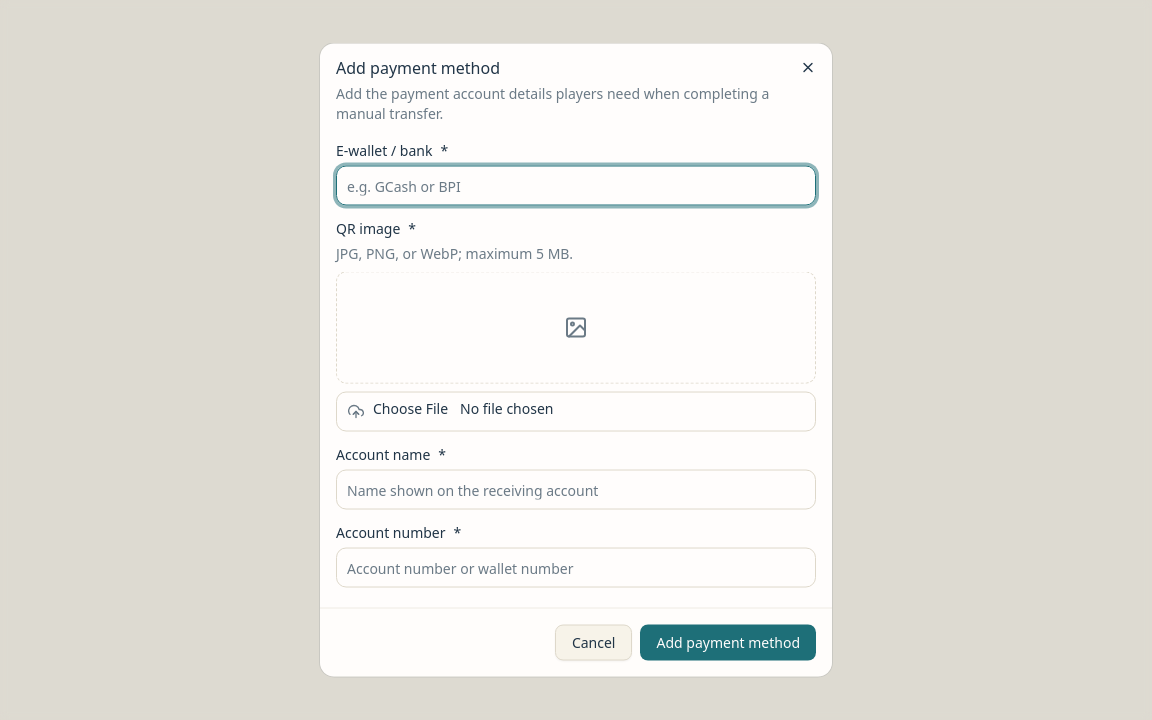
it: payment account input › keeps letters and punctuation out when typing or pasting in the create form
Step 1. Type "00ab12e3.4" into the field labelled "Account number" → (576, 568), box [336,548,816,588]
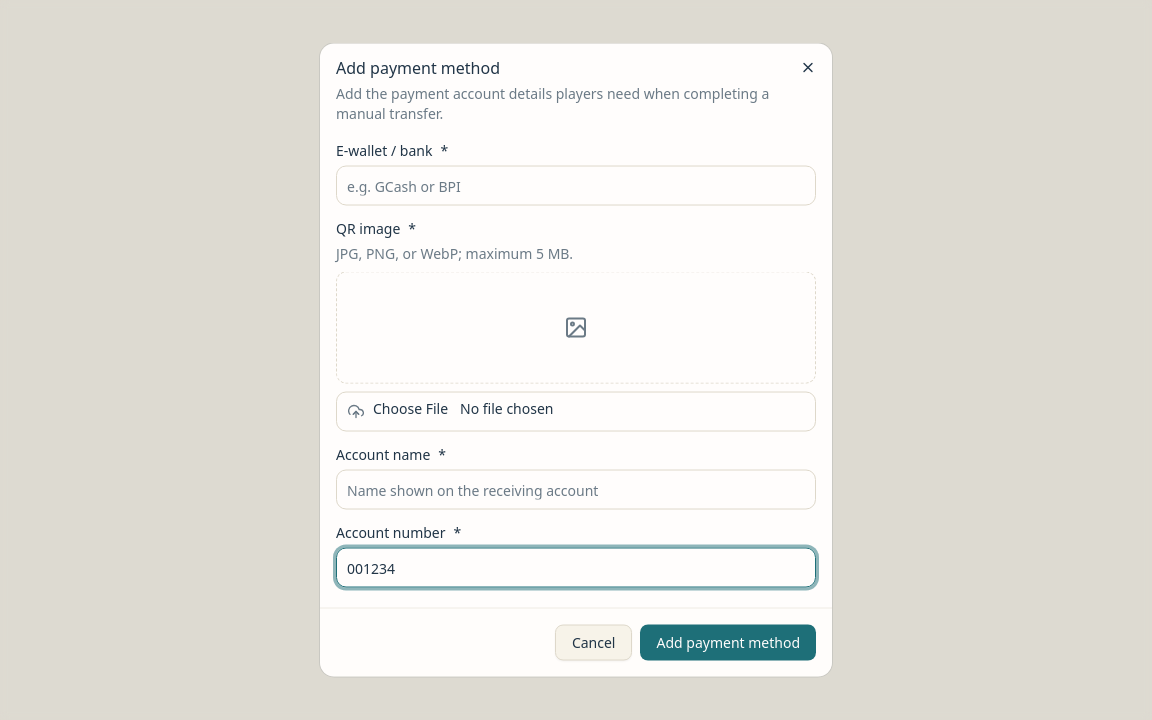
Check: the field labelled "Account number" holds "001234"
Step 2. Clear the field labelled "Account number" → (576, 568), box [336,548,816,588]
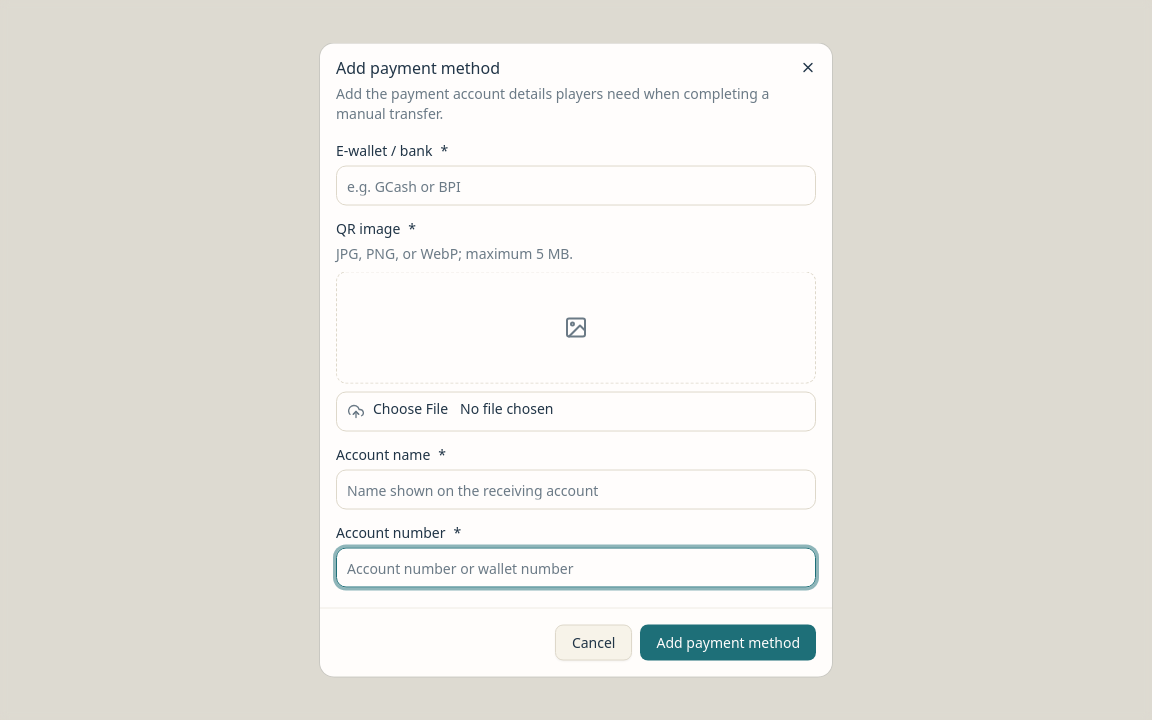
Step 3. Type keys "00-123 abc 45"
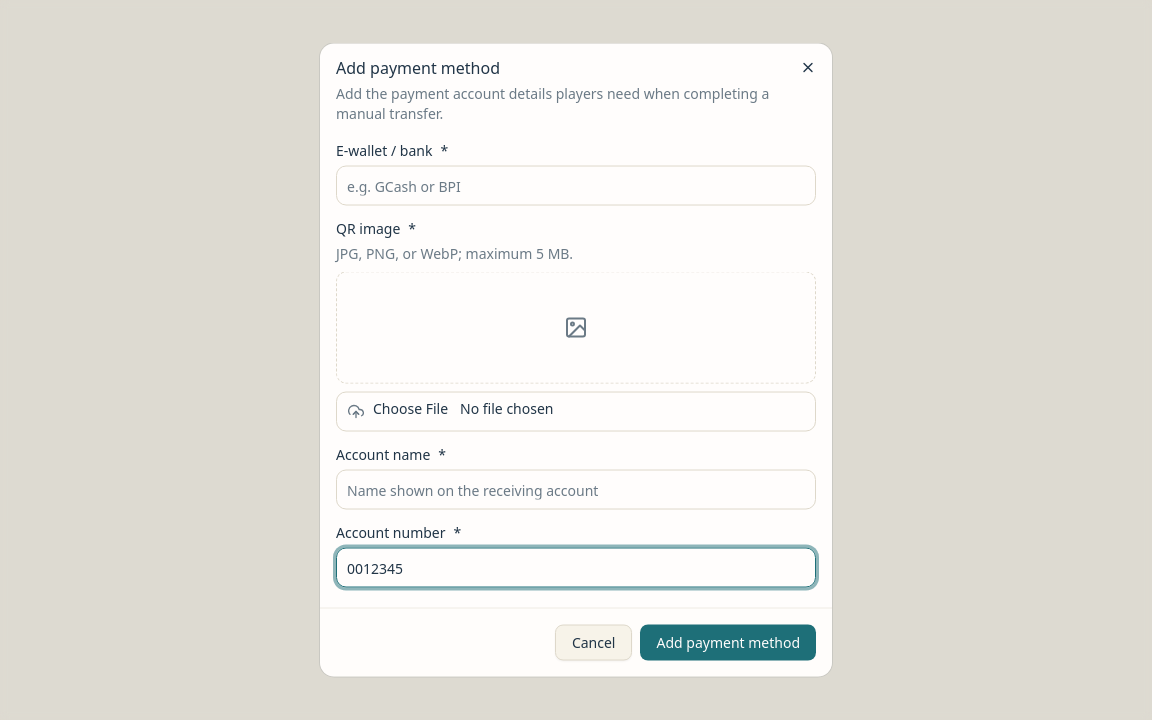
Check: the field labelled "Account number" holds "0012345", box [336,548,816,588]
